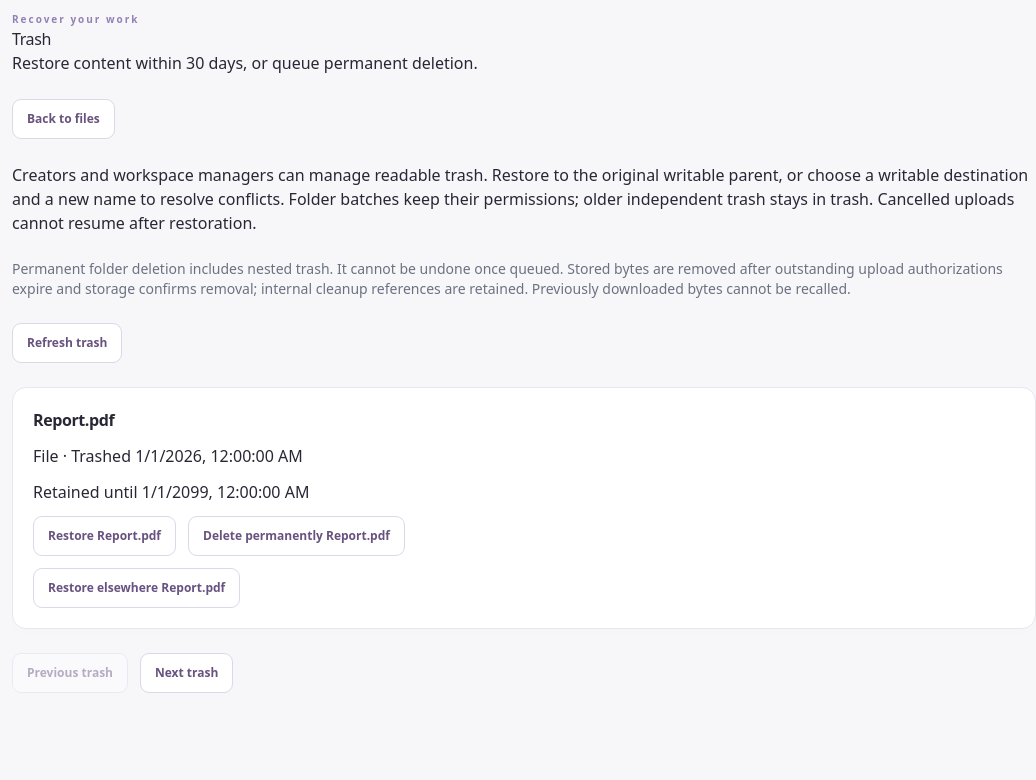
Test case: shows restore conflicts and supports paginated trash
This screenshot has width=1036, height=780.
Expected: the heading "Report.pdf" is shown, [33,409,114,431]
What coordinates should you click on to do the following:
click the button "Restore Report.pdf"
I would click on:
 (104, 536)
Its box is [33,516,176,556].
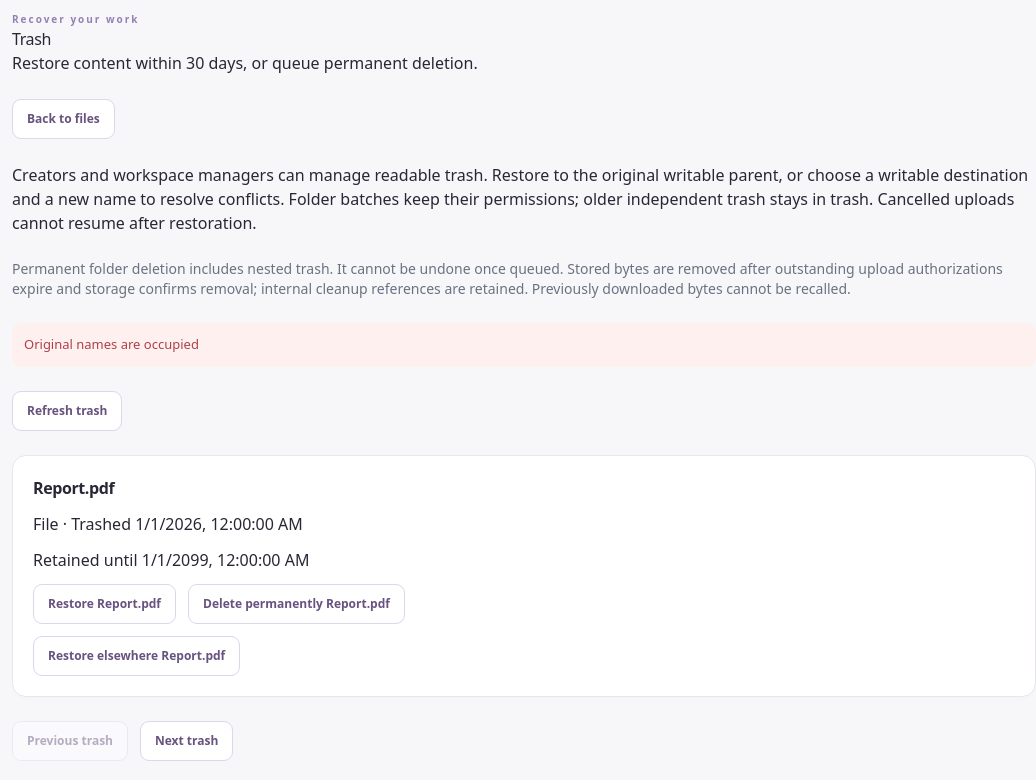
Expected: the message reads "Original names are occupied", [24,335,199,353]
What coordinates should you click on to do the following:
click the button "Next trash"
I would click on:
 (187, 740)
Its box is [140,720,233,760].
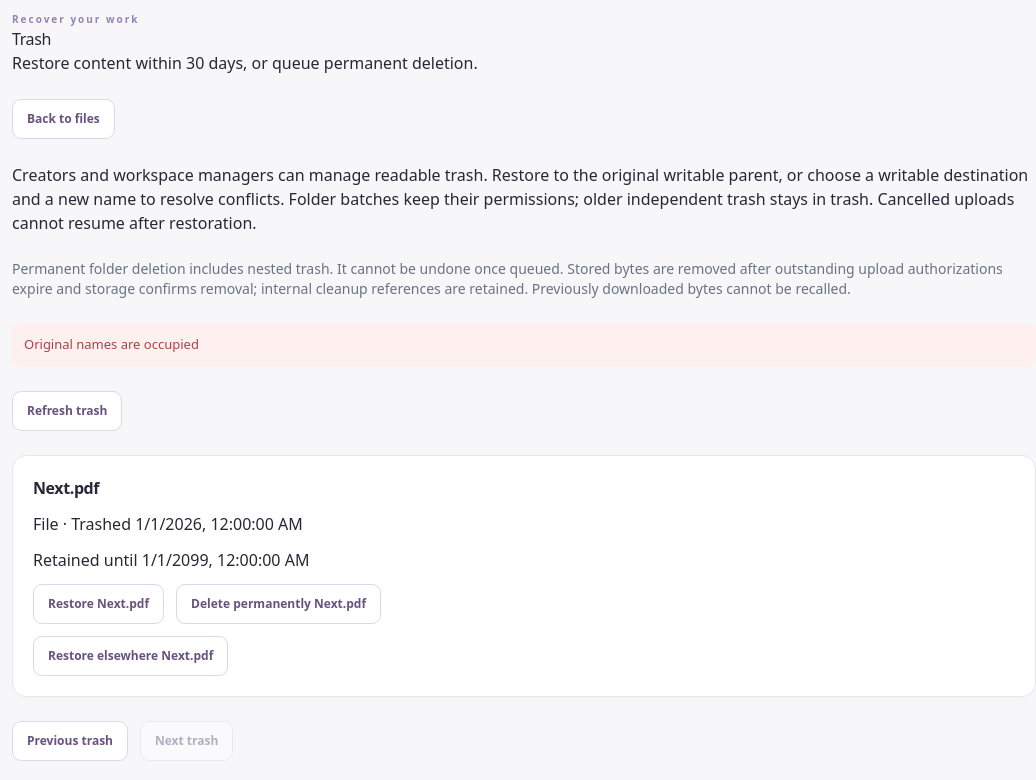
Expected: the heading "Next.pdf" is shown, [33,476,99,498]
